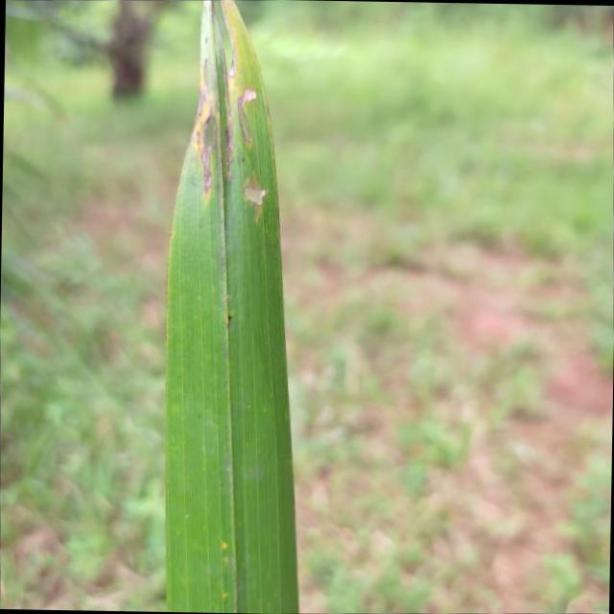Kalium: (160, 0, 297, 614)
